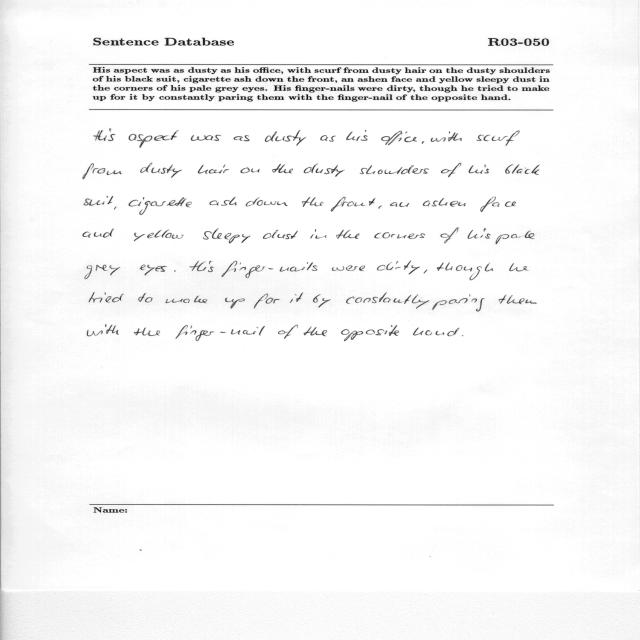word: (222, 261, 318, 278), (175, 325, 265, 341), (346, 292, 429, 309), (128, 197, 192, 215), (437, 262, 493, 280), (341, 325, 399, 341), (432, 295, 485, 312), (129, 130, 179, 148), (203, 228, 250, 243), (476, 130, 520, 146), (331, 197, 375, 212), (265, 130, 306, 146), (140, 163, 182, 178), (360, 165, 429, 174), (83, 163, 121, 179), (377, 261, 420, 274), (134, 230, 184, 241), (480, 197, 516, 212), (304, 164, 345, 177), (381, 131, 417, 145), (496, 231, 534, 244), (85, 265, 120, 279), (254, 294, 280, 309), (423, 198, 466, 207), (87, 325, 119, 337), (246, 198, 288, 207), (506, 164, 540, 175), (89, 292, 123, 303), (413, 328, 459, 336), (374, 232, 425, 239), (431, 131, 462, 142), (499, 295, 536, 304), (263, 230, 298, 239), (198, 164, 229, 174), (139, 265, 167, 276), (166, 296, 208, 303), (84, 196, 113, 206), (441, 163, 461, 177), (278, 325, 298, 339), (83, 229, 113, 238), (441, 228, 459, 243), (190, 261, 214, 272), (468, 228, 491, 239), (94, 129, 115, 141), (210, 197, 237, 206), (346, 130, 368, 141), (304, 327, 327, 337), (313, 295, 330, 308), (336, 230, 360, 239), (302, 197, 323, 207), (134, 328, 160, 336), (225, 298, 245, 308), (332, 265, 365, 271), (272, 164, 293, 173), (191, 135, 221, 141), (469, 165, 489, 174), (310, 229, 327, 239), (509, 264, 529, 272), (138, 293, 153, 303), (290, 292, 303, 303), (240, 168, 260, 174), (320, 135, 336, 142), (390, 202, 410, 207), (234, 135, 249, 141), (379, 205, 383, 209), (424, 270, 427, 274), (114, 207, 117, 210), (422, 141, 424, 144), (174, 270, 176, 272), (462, 335, 463, 336)
